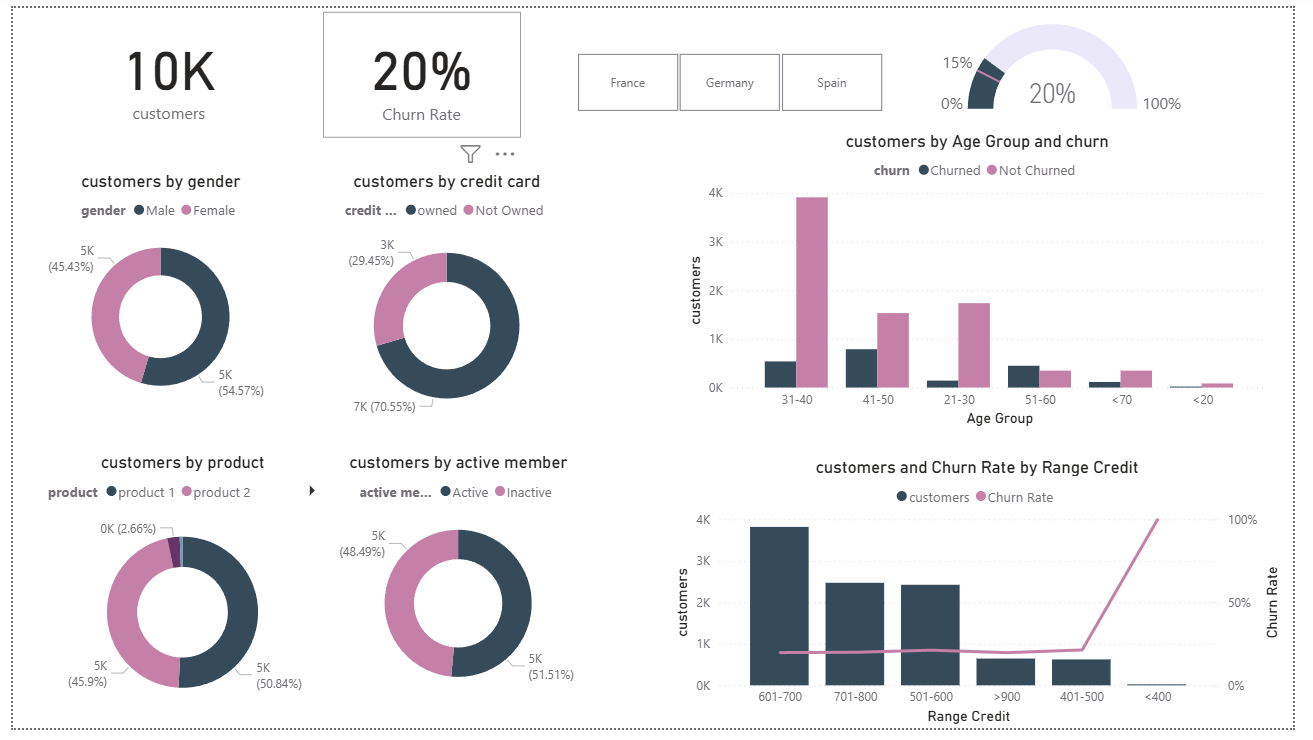

The page's visual inventory and layout, read from the dashboard file:
{"tool":"powerbi","page":{"name":"Page 1","canvas":[1280,720],"ordinal":0},"visuals":[{"type":"card","fields":{"Values":["measure table.customers"]},"box":[53.4,0,204.7,133.5],"z":0},{"type":"card","fields":{"Values":["measure table.Churn Rate"]},"box":[309.7,3.6,197.6,126.4],"z":3},{"type":"donutChart","fields":{"Category":["Bank Customer Churn Prediction.gender"],"Y":["measure table.customers"]},"box":[0,162,295.4,243.8],"z":4},{"type":"donutChart","fields":{"Y":["measure table.customers"],"Category":["Bank Customer Churn Prediction.active member"]},"box":[283,443.2,325.7,254.5],"z":6},{"type":"donutChart","fields":{"Y":["measure table.customers"],"Category":["Bank Customer Churn Prediction.credit card"]},"box":[295.4,162,277.6,261.6],"z":7},{"type":"donutChart","fields":{"Y":["measure table.customers"],"Category":["Bank Customer Churn Prediction.product"]},"box":[30.3,443.2,279.4,272.3],"z":9},{"type":"slicer","fields":{"Values":["Bank Customer Churn Prediction.country"]},"box":[539.3,39.2,354.2,71.2],"z":10},{"type":"clusteredColumnChart","fields":{"Category":["Bank Customer Churn Prediction.Age Group"],"Y":["measure table.customers"],"Series":["Bank Customer Churn Prediction.churn"]},"box":[669.2,122.8,590.9,300.8],"z":11},{"type":"lineStackedColumnComboChart","fields":{"Category":["Bank Customer Churn Prediction.Range Credit"],"Y":["measure table.customers"],"Y2":["measure table.Churn Rate"]},"box":[656.7,448.5,615.8,272.3],"z":12},{"type":"gauge","fields":{"Y":["measure table.Churn Rate"],"MinValue":["Min(Bank Customer Churn Prediction.min churn rate)"],"MaxValue":["Max(Bank Customer Churn Prediction.max churn rate)"],"TargetValue":["Avg(Bank Customer Churn Prediction.Target churn)"]},"box":[911.3,10.7,274.1,99.7],"z":13}]}

Visuals, with their boxes in screenshot pixels (x1, y1, x2, y2), scaled from the page's 1280x720 canvas onto the 1313x740 screenshot:
card - measure table.customers: detection(55, 0, 265, 137)
card - measure table.Churn Rate: detection(318, 4, 520, 134)
donutChart - Bank Customer Churn Prediction.gender x measure table.customers: detection(0, 166, 303, 417)
donutChart - measure table.customers x Bank Customer Churn Prediction.active member: detection(290, 456, 624, 717)
donutChart - measure table.customers x Bank Customer Churn Prediction.credit card: detection(303, 166, 588, 435)
donutChart - measure table.customers x Bank Customer Churn Prediction.product: detection(31, 456, 318, 735)
slicer - Bank Customer Churn Prediction.country: detection(553, 40, 917, 113)
clusteredColumnChart - Bank Customer Churn Prediction.Age Group x measure table.customers: detection(686, 126, 1293, 435)
lineStackedColumnComboChart - Bank Customer Churn Prediction.Range Credit x measure table.customers: detection(674, 461, 1305, 739)
gauge - measure table.Churn Rate x Min(Bank Customer Churn Prediction.min churn rate): detection(935, 11, 1216, 113)
